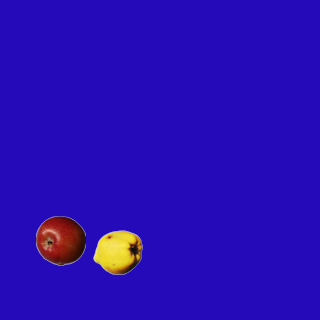Apple Braeburn: (35, 215, 85, 265)
Quince: (92, 227, 142, 277)
